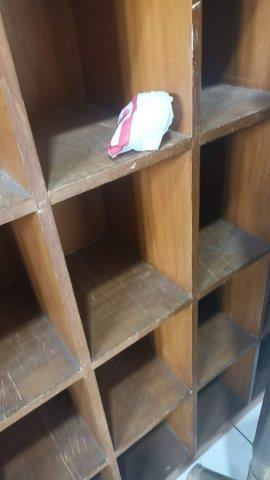plastik: (107, 89, 177, 156)
